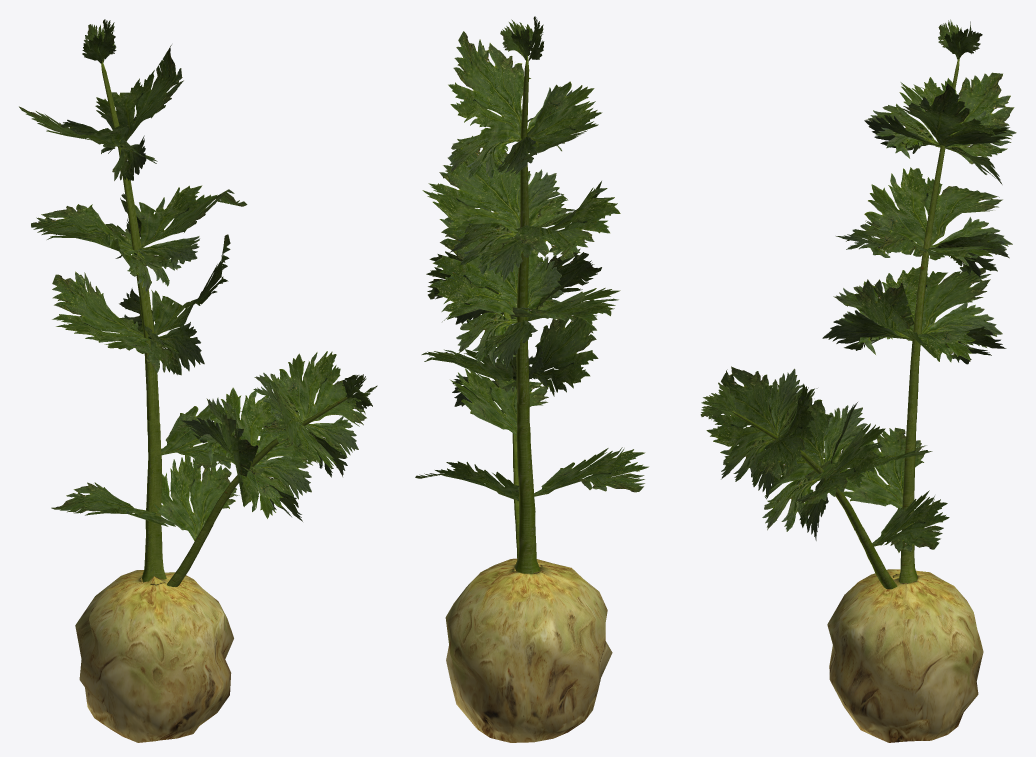
3 views of the same model, side by side, from view 1: azimuth 30°, elevation 25°; view 2: azimuth 150°, elevation 25°; view 3: azimuth 270°, elevation 25° (orthographic). The views are drawn at different scales.
Parts seen in each view (by area): view 1: VG02_1; view 2: VG02_1; view 3: VG02_1.
Part boxes in pixels (x1=…): VG02_1: x1=19, y1=19, x2=377, y2=742; VG02_1: x1=415, y1=16, x2=649, y2=742; VG02_1: x1=700, y1=19, x2=1016, y2=742.
Size of the model in its own units: 0.0379 by 0.0976 by 0.0413.
